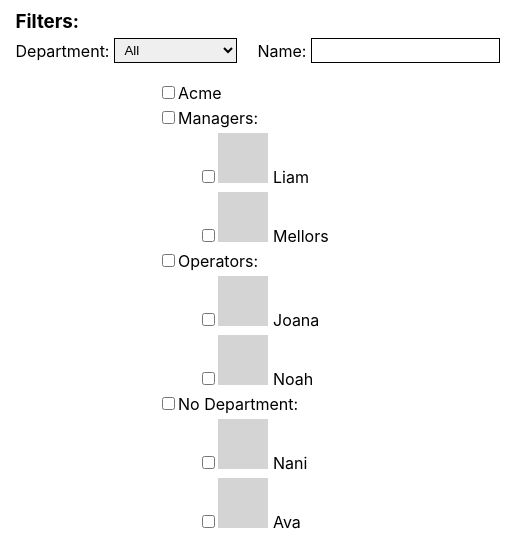
Selecting items › Managers department is selected after all employees in it are selected
This screenshot has width=517, height=546.
Click the checkbox labelled "Liam" at (208,176), box x1=202 y1=170 x2=215 y2=183
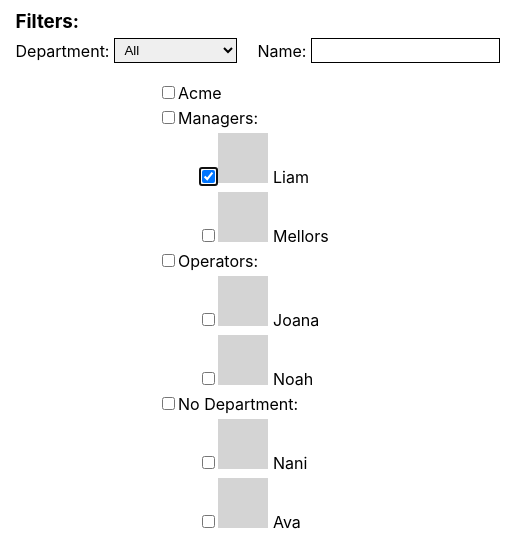
Click the checkbox labelled "Mellors" at (208,236), box x1=202 y1=229 x2=215 y2=242
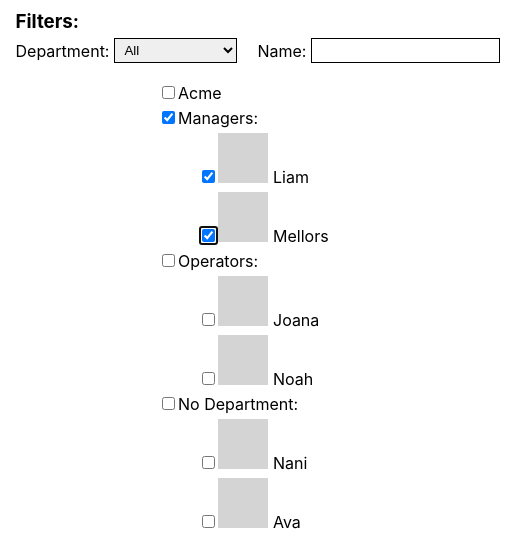
Expected: the checkbox labelled "Managers:" is checked, x1=162 y1=111 x2=175 y2=124
